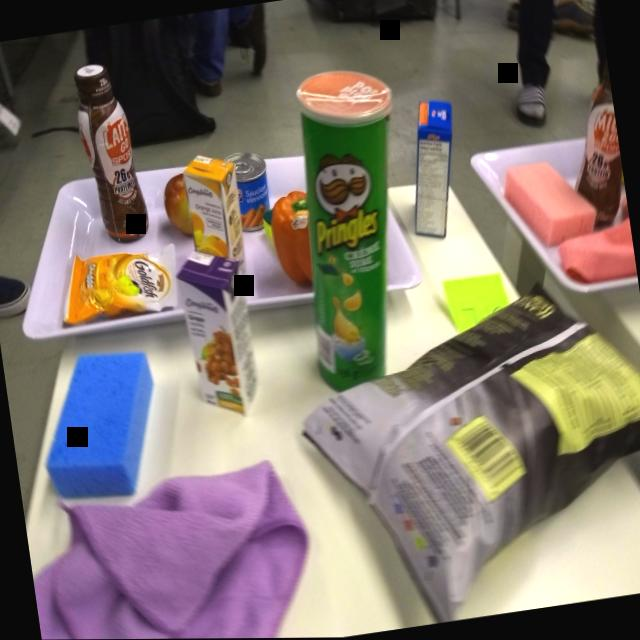apple: (160, 170, 196, 241)
cereal: (397, 90, 468, 245)
chocolate_drink: (62, 54, 156, 248), (561, 48, 630, 227)
crackers: (59, 241, 181, 329)
grape_juice: (173, 242, 264, 423)
orange_juice: (180, 148, 251, 282)
paprika: (266, 188, 325, 299)
potato_chips: (295, 273, 640, 610)
pringles: (279, 54, 429, 389)
sausages: (225, 147, 277, 235)
sponge_opl: (29, 342, 171, 516)
